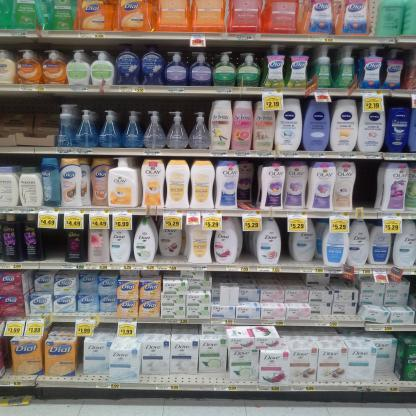Void: (3, 98, 56, 136), (212, 270, 304, 284), (359, 166, 381, 208), (45, 233, 61, 264)
